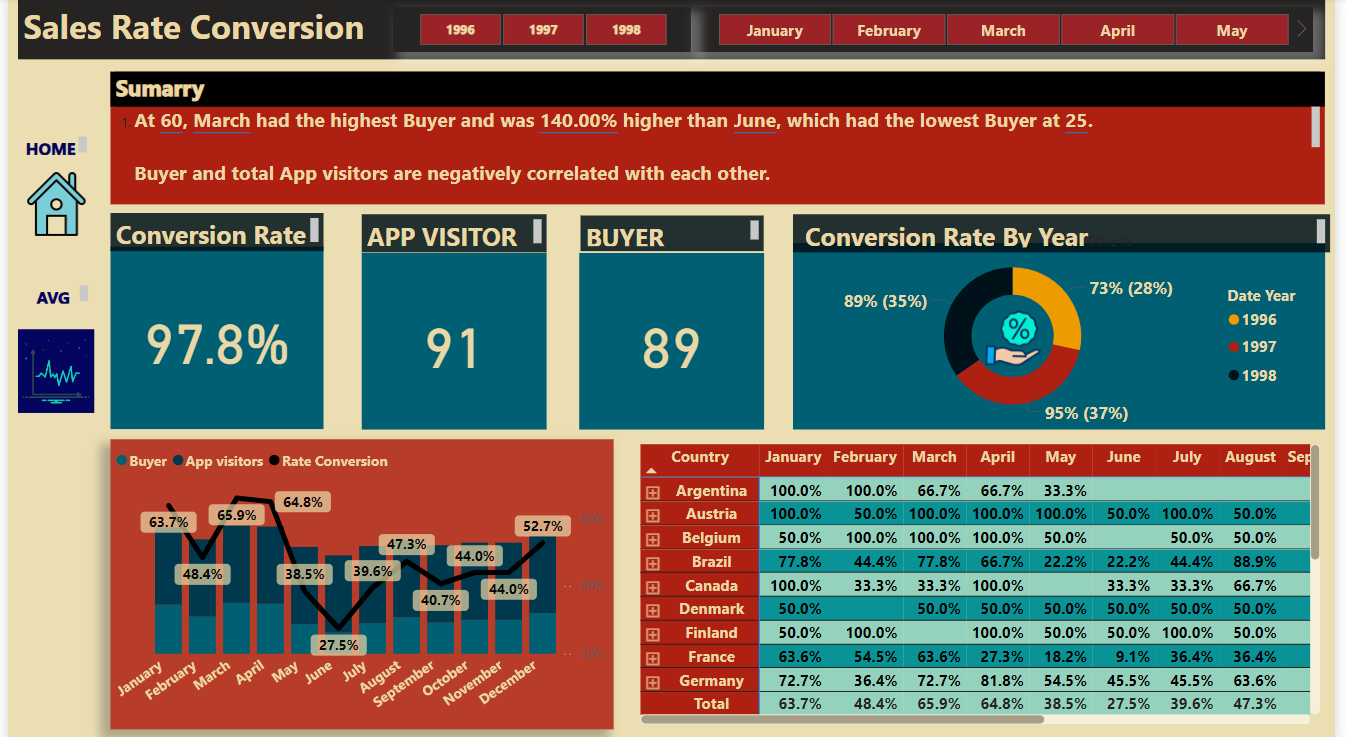

What the dashboard file says about the page in this screenshot:
{"tool":"powerbi","page":{"name":"Rate ","canvas":[1280,720],"ordinal":2},"visuals":[{"type":"textbox","box":[9.6,0,1261.5,59.1],"z":0},{"type":"card","fields":{"Values":["Customers.App visitors"]},"box":[341.7,245.6,178.4,170.2],"z":1000},{"type":"card","fields":{"Values":["Customers.Rate Conversion"]},"box":[98.8,240.1,205.8,175.6],"z":2000},{"type":"image","box":[10.9,156.8,71.2,83.2],"z":3000},{"type":"image","box":[9.6,319.6,73.6,80.8],"z":4000},{"type":"textbox","box":[13.3,272.6,68.7,27.7],"z":5000},{"type":"textbox","box":[12.1,129,68.7,27.7],"z":6000},{"type":"slicer","fields":{"Values":["Calender.Month"]},"box":[660,8.2,599.7,43.9],"z":7000},{"type":"slicer","fields":{"Values":["Calender.year"]},"box":[371.9,8.2,288.2,43.9],"z":8000},{"type":"lineStackedColumnComboChart","fields":{"Category":["Calender.Month"],"Y":["Orders.Buyer","Customers.App visitors"],"Y2":["Customers.Rate Conversion"]},"box":[98.8,425.4,485.8,279.9],"z":9000},{"type":"pivotTable","fields":{"Columns":["Calender.Month"],"Values":["Customers.Rate Conversion"],"Rows":["Customers.Country","Customers.CompanyName"]},"box":[605.1,425.4,665.5,279.9],"z":10000},{"type":"card","fields":{"Values":["Orders.Buyer"]},"box":[551.6,245.6,178.4,170.2],"z":11000},{"type":"donutChart","fields":{"Y":["Customers.Rate Conversion"],"Category":["Calender.Date.Variation.Date Hierarchy.Year","Calender.Date.Variation.Date Hierarchy.Quarter","Calender.Date.Variation.Date Hierarchy.Month","Calender.Date.Variation.Date Hierarchy.Day"]},"box":[757.5,236,513.2,179.8],"z":12000},{"type":"textbox","title":"Sumarry","box":[98.8,71.4,1171.9,127.6],"z":13000},{"type":"textbox","box":[757.5,208.6,518.7,37],"z":14000},{"type":"textbox","box":[98.8,207.2,205.8,37],"z":15000},{"type":"textbox","box":[341.7,208.6,178.4,37],"z":16000},{"type":"textbox","box":[553,209.9,177,34.3],"z":17000},{"type":"image","box":[938.6,296.4,63.1,63.1],"z":18000}]}

Visuals, with their boxes in screenshot pixels (x1, y1, x2, y2), scaled from the page's 1280x720 canvas onto the 1346x737 screenshot:
textbox: box=[10, 0, 1337, 60]
card - Customers.App visitors: box=[359, 251, 547, 426]
card - Customers.Rate Conversion: box=[104, 246, 320, 426]
image: box=[11, 161, 86, 246]
image: box=[10, 327, 87, 410]
textbox: box=[14, 279, 86, 307]
textbox: box=[13, 132, 85, 160]
slicer - Calender.Month: box=[694, 8, 1325, 53]
slicer - Calender.year: box=[391, 8, 694, 53]
lineStackedColumnComboChart - Calender.Month x Orders.Buyer: box=[104, 435, 615, 722]
pivotTable - Calender.Month x Customers.Rate Conversion: box=[636, 435, 1336, 722]
card - Orders.Buyer: box=[580, 251, 768, 426]
donutChart - Customers.Rate Conversion x Calender.Date.Variation.Date Hierarchy.Year: box=[797, 242, 1336, 426]
"Sumarry" textbox: box=[104, 73, 1336, 204]
textbox: box=[797, 214, 1342, 251]
textbox: box=[104, 212, 320, 250]
textbox: box=[359, 214, 547, 251]
textbox: box=[582, 215, 768, 250]
image: box=[987, 303, 1053, 368]
